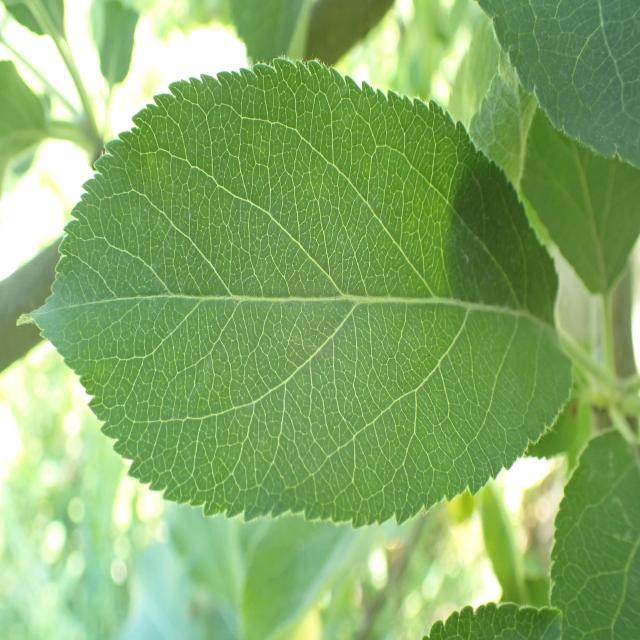healthy: (19, 54, 575, 531), (471, 0, 640, 169), (549, 427, 640, 640), (422, 601, 564, 640)
